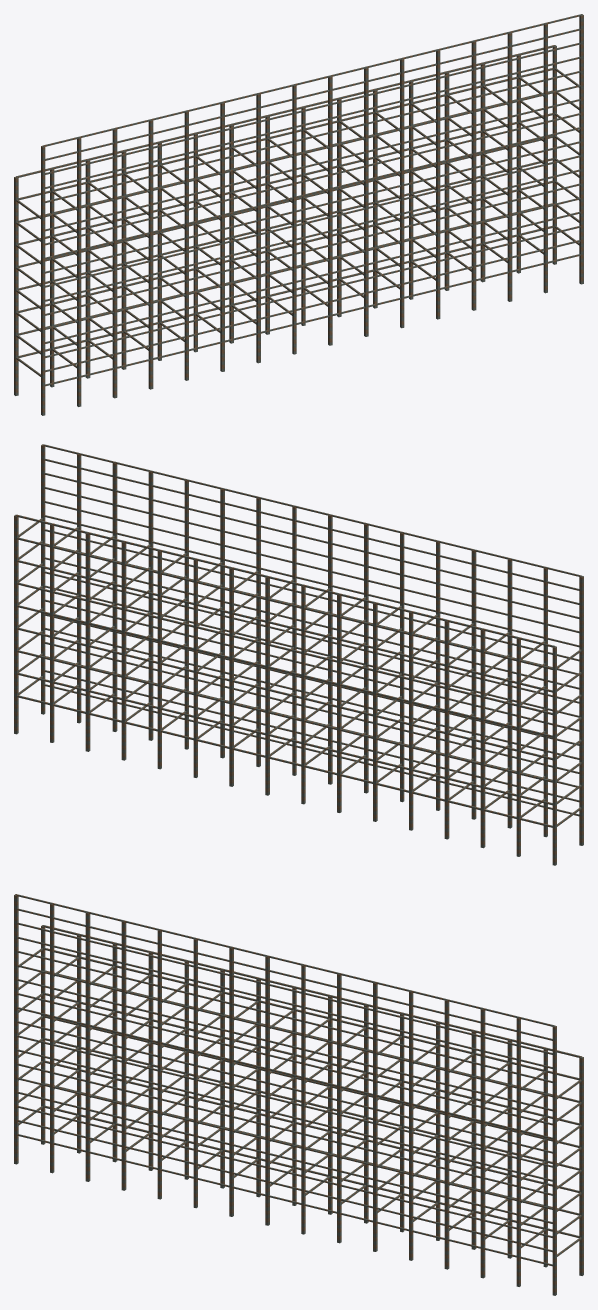
Rendered from duga.obj.
The picture shows the model from 3 angles, top to bottom: view 1: azimuth 30°, elevation 25°; view 2: azimuth 150°, elevation 25°; view 3: azimuth 330°, elevation 25°; orthographic projection.
Visible parts, largest first — view 1: Column2_Steel, Column13_Steel, Column3_Steel, Column12_Steel, Column0_Steel, Column10_Steel, Column1_Steel, Column8_Steel, Column9_Steel, Column7_Steel, Column6_Steel, Column11_Steel (+31 smaller); view 2: Column3_Steel, Column13_Steel, Column12_Steel, Column2_Steel, Column0_Steel, Column10_Steel, Column7_Steel, Column11_Steel, Column1_Steel, Column6_Steel, Column9_Steel, Column8_Steel (+31 smaller); view 3: Column2_Steel, Column13_Steel, Column12_Steel, Column3_Steel, Column15_Steel, Column5_Steel, Column6_Steel, Column7_Steel, Column14_Steel, Column8_Steel, Column9_Steel, Column4_Steel (+31 smaller).
Boxes of the visible parts, box(x1,y1,x2,y2) form: Column2_Steel: box(85, 129, 117, 398); Column13_Steel: box(480, 32, 512, 301); Column3_Steel: box(121, 120, 153, 389); Column12_Steel: box(444, 41, 476, 310); Column0_Steel: box(14, 145, 45, 415); Column10_Steel: box(373, 58, 404, 328); Column1_Steel: box(50, 137, 81, 406); Column8_Steel: box(301, 76, 332, 345); Column9_Steel: box(337, 67, 368, 336); Column7_Steel: box(265, 85, 296, 354); Column6_Steel: box(229, 93, 260, 363); Column11_Steel: box(409, 50, 440, 319); Column3_Steel: box(444, 550, 476, 839); Column13_Steel: box(85, 462, 117, 751); Column12_Steel: box(121, 471, 153, 760); Column2_Steel: box(480, 559, 512, 848); Column0_Steel: box(552, 576, 583, 865); Column10_Steel: box(193, 489, 224, 777); Column7_Steel: box(301, 515, 332, 804); Column11_Steel: box(157, 480, 188, 769); Column1_Steel: box(516, 567, 547, 856); Column6_Steel: box(337, 524, 368, 812); Column9_Steel: box(229, 497, 260, 786); Column8_Steel: box(265, 506, 296, 795); Column2_Steel: box(85, 912, 117, 1181); Column13_Steel: box(480, 1009, 512, 1278); Column12_Steel: box(444, 1000, 476, 1269); Column3_Steel: box(121, 921, 153, 1190); Column15_Steel: box(552, 1025, 583, 1295); Column5_Steel: box(193, 938, 224, 1208); Column6_Steel: box(229, 947, 260, 1216); Column7_Steel: box(265, 956, 296, 1225); Column14_Steel: box(516, 1017, 547, 1286); Column8_Steel: box(301, 965, 332, 1234); Column9_Steel: box(337, 973, 368, 1243); Column4_Steel: box(157, 930, 188, 1199).
Size of the model in its own units: 302 by 143 by 27.6.
1 material, 1 textured.
